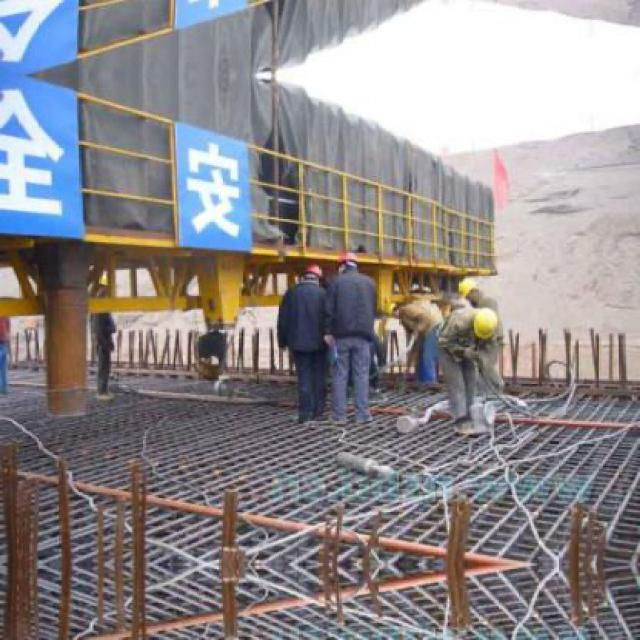helmet: (465, 304, 500, 341), (452, 274, 485, 307), (291, 261, 326, 290), (336, 250, 362, 279), (383, 298, 405, 319)
